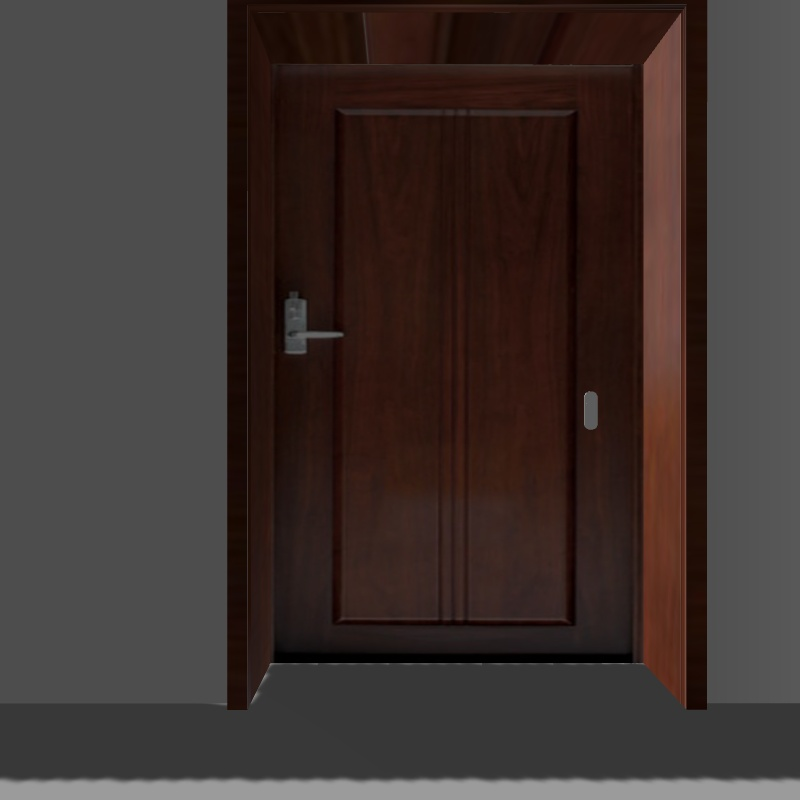handle: (276, 291, 348, 360)
